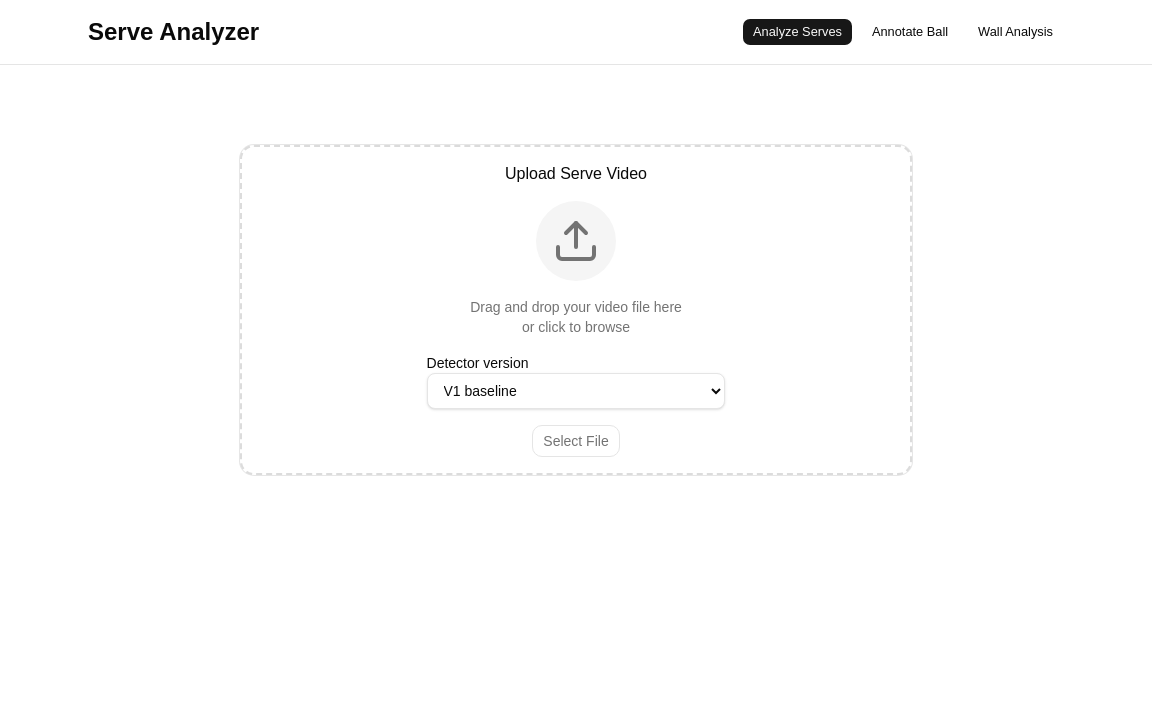
App › switches to the annotation workspace
This screenshot has width=1152, height=720.
Click the button "Annotate Ball": (910, 32) [861,18,959,46]
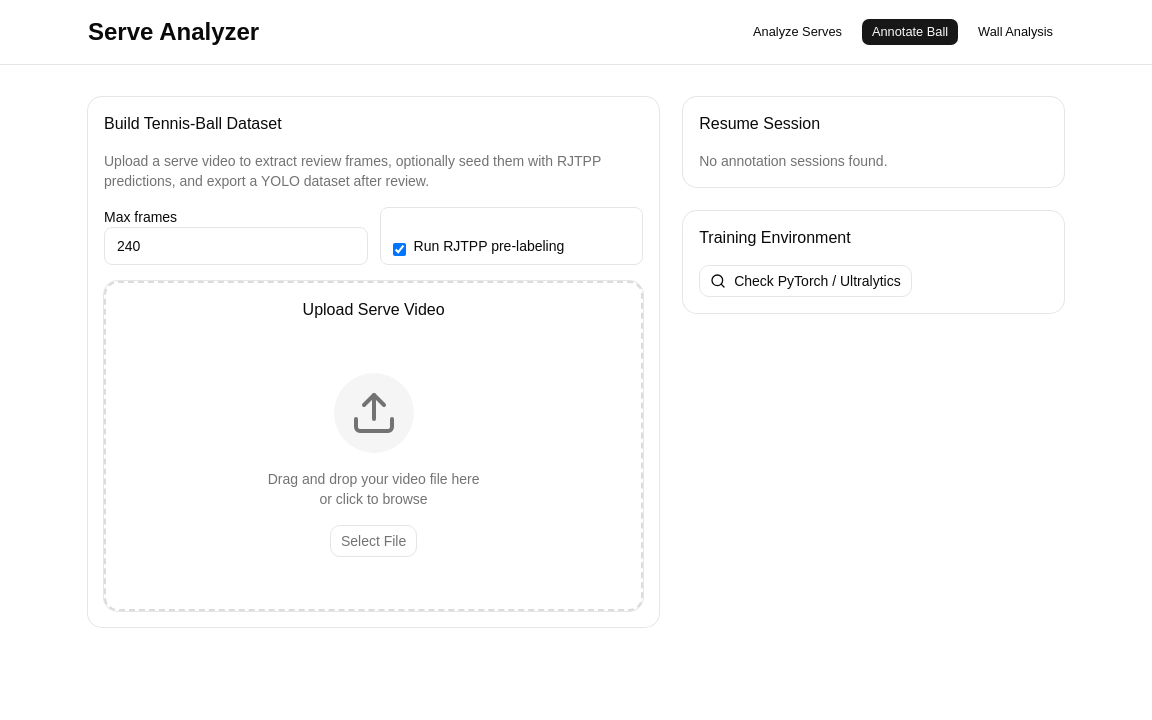
Now the text "Build Tennis-Ball Dataset" is shown, box [104,115,282,132]
